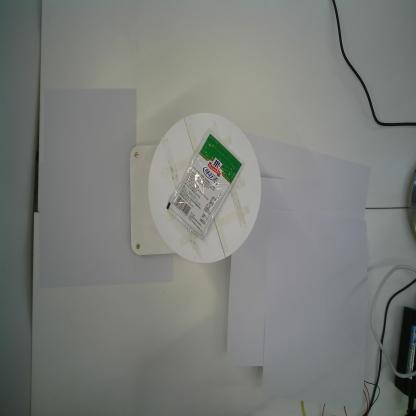Seasoner: (164, 128, 244, 241)
